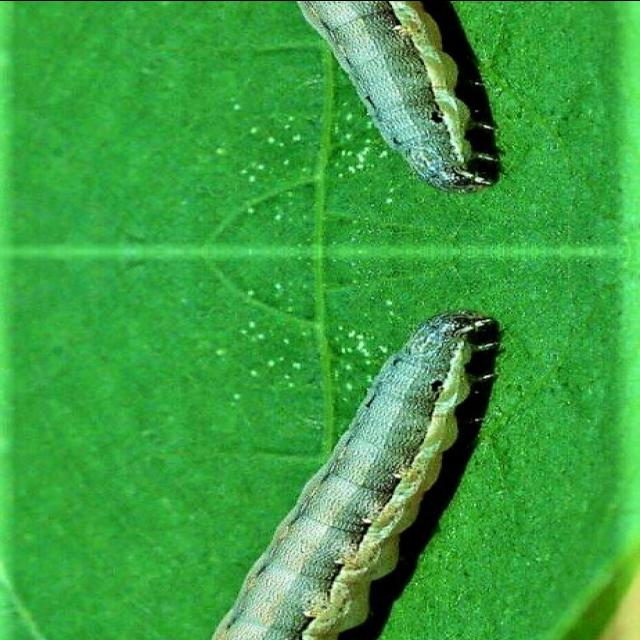Armyworm: (153, 303, 532, 640), (147, 1, 587, 225)
